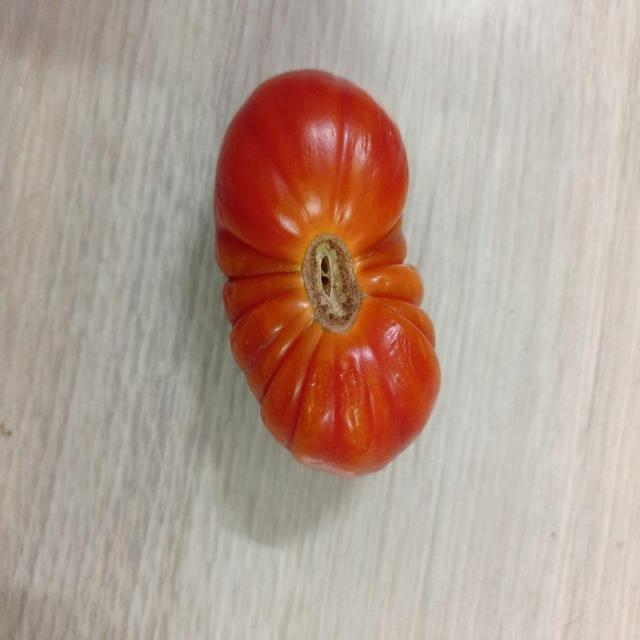Tomato: (211, 65, 445, 482)
